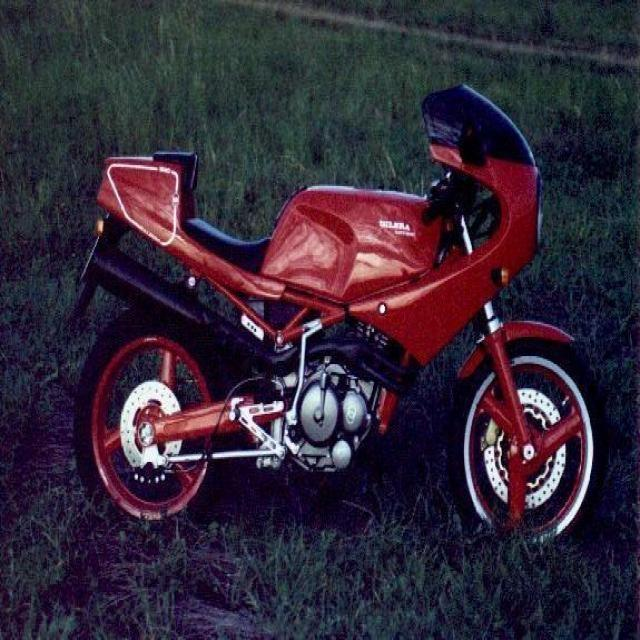Motorcycle: (71, 91, 608, 549)
